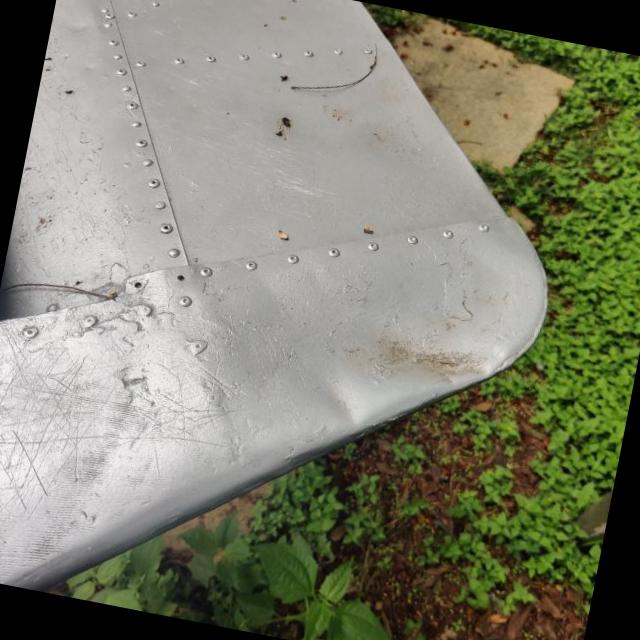Dent: (288, 347, 402, 458)
Scratch: (0, 312, 140, 571)
